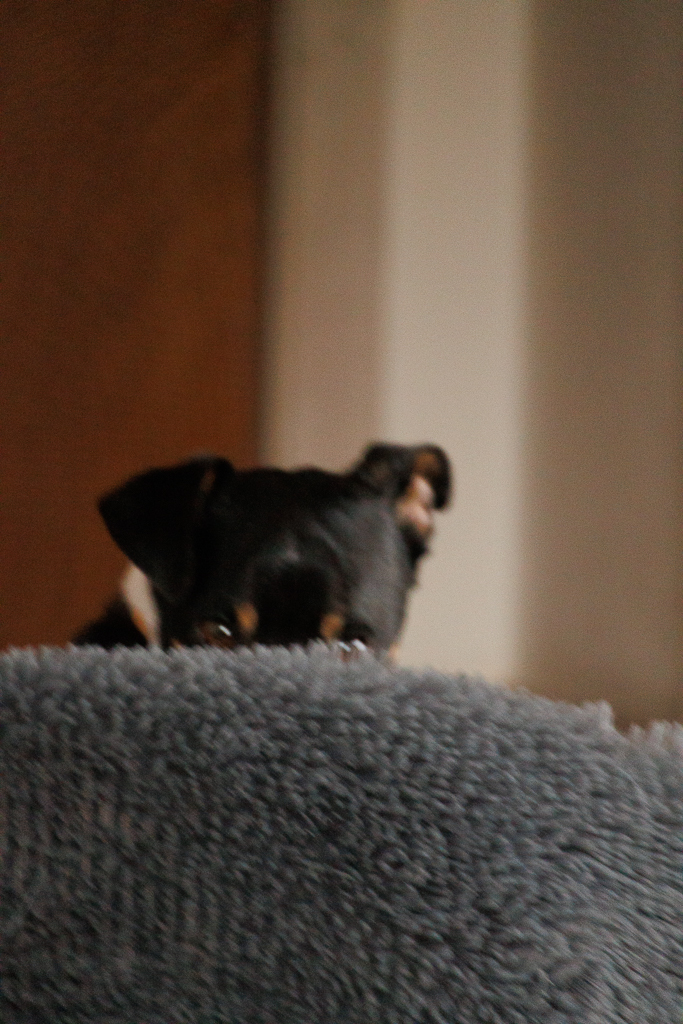Dog: (56, 422, 467, 691)
